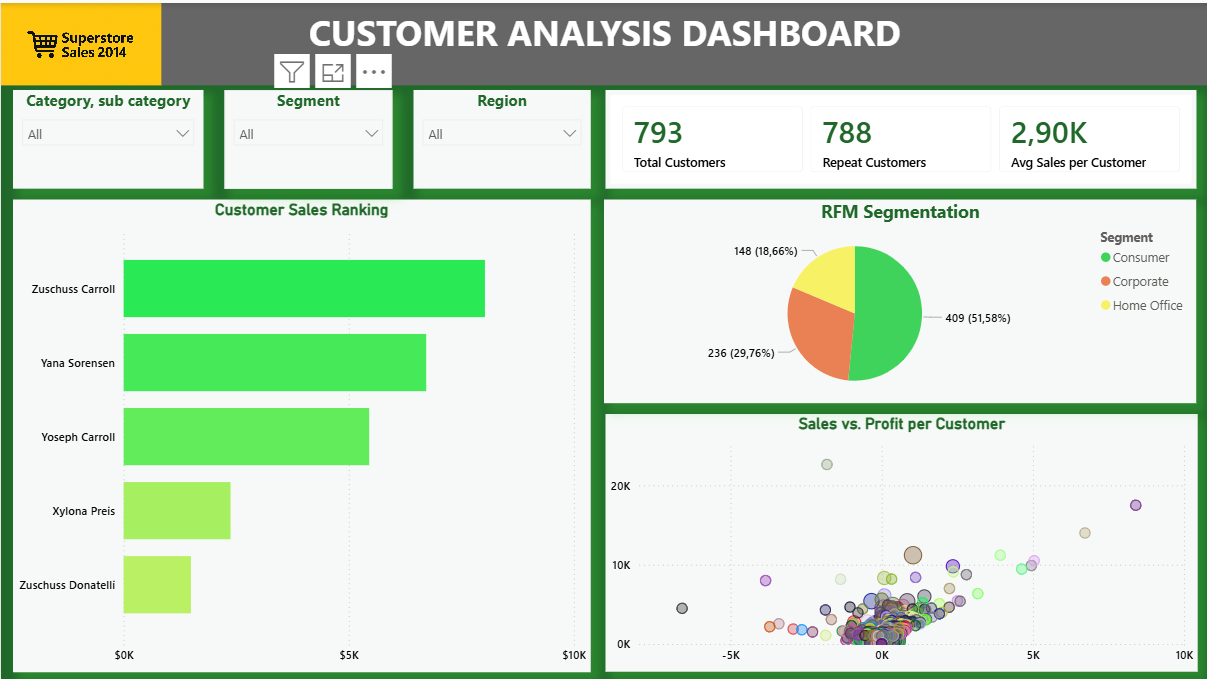

This screenshot's page, from the dashboard's own definition file:
{"tool":"powerbi","page":{"name":"KPI Customer Analysis","canvas":[1280,720],"ordinal":1},"visuals":[{"type":"textbox","box":[0,0,1280.8,87.4],"z":0},{"type":"image","box":[0,0,170,87.4],"z":1000},{"type":"slicer","title":"Category, sub category","fields":{"Values":["Orders.Category","Orders.Sub-Category"]},"box":[12.7,92.3,202,105],"z":2000},{"type":"slicer","title":"Region","fields":{"Values":["Orders.Region"]},"box":[437.4,92.3,187.7,105],"z":3000},{"type":"cardVisual","fields":{"Data":["Orders.Total Customers","Orders.Repeat Customers","Orders.Avg Sales per Customer"]},"box":[641,92.3,626.7,105],"z":4000,"group":"g1"},{"type":"clusteredBarChart","title":"Customer Sales Ranking","fields":{"Y":["key Measures.Total Sales"],"Category":["Orders.Customer Name"]},"box":[12.7,208.4,612.4,501],"z":5000},{"type":"slicer","title":"Segment","fields":{"Values":["Orders.Segment"]},"box":[237,92.3,178.1,105],"z":6000},{"type":"scatterChart","title":"Sales vs. Profit per Customer","fields":{"Category":["Orders.Sales"],"X":["Orders.Profit per Customer"],"Y":["Orders.Customer Lifetime Value"],"Size":["Orders.Total Customers"]},"box":[641,435.9,628.3,273.6],"z":7000,"group":"g1"},{"type":"pieChart","title":"RFM Segmentation","fields":{"Y":["Orders.Total Customers"],"Category":["Orders.Segment"]},"box":[639.4,208.4,628.3,216.3],"z":8000,"group":"g1"},{"type":"group","id":"g1","title":"Group 1","box":[639.4,92.3,629.9,617.2],"z":8001}]}

Visuals, with their boxes in screenshot pixels (x1, y1, x2, y2), scaled from the page's 1280x720 canvas onto the 1207x679 screenshot:
textbox: <region>0, 0, 1206, 82</region>
image: <region>0, 0, 160, 82</region>
"Category, sub category" slicer: <region>12, 87, 202, 186</region>
"Region" slicer: <region>412, 87, 589, 186</region>
cardVisual - Orders.Total Customers x Orders.Repeat Customers: <region>604, 87, 1195, 186</region>
"Customer Sales Ranking" clusteredBarChart: <region>12, 197, 589, 669</region>
"Segment" slicer: <region>223, 87, 391, 186</region>
"Sales vs. Profit per Customer" scatterChart: <region>604, 411, 1197, 669</region>
"RFM Segmentation" pieChart: <region>603, 197, 1195, 401</region>
"Group 1" group: <region>603, 87, 1197, 669</region>
